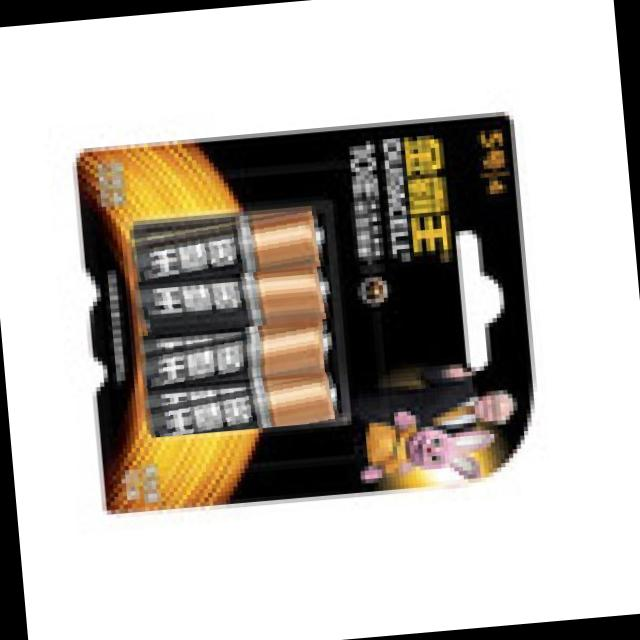Hazard: (129, 205, 328, 282), (137, 317, 335, 388), (132, 266, 332, 336), (142, 372, 338, 438)
